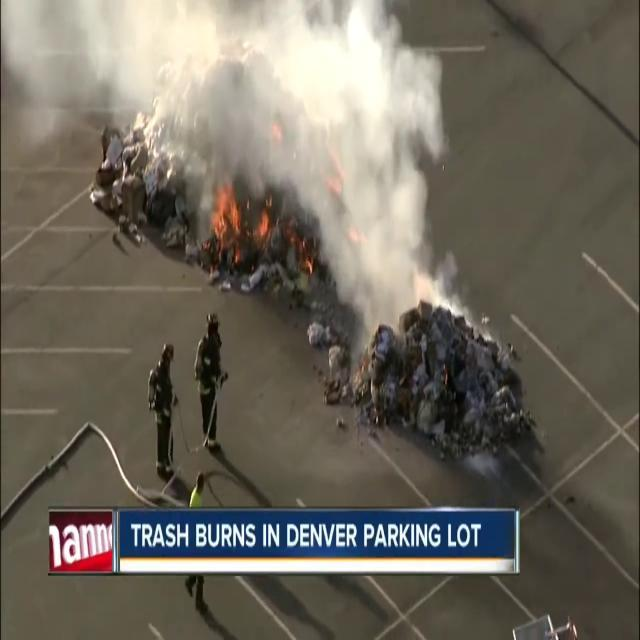Fire: (207, 177, 243, 266)
Smoke: (175, 0, 453, 304)
